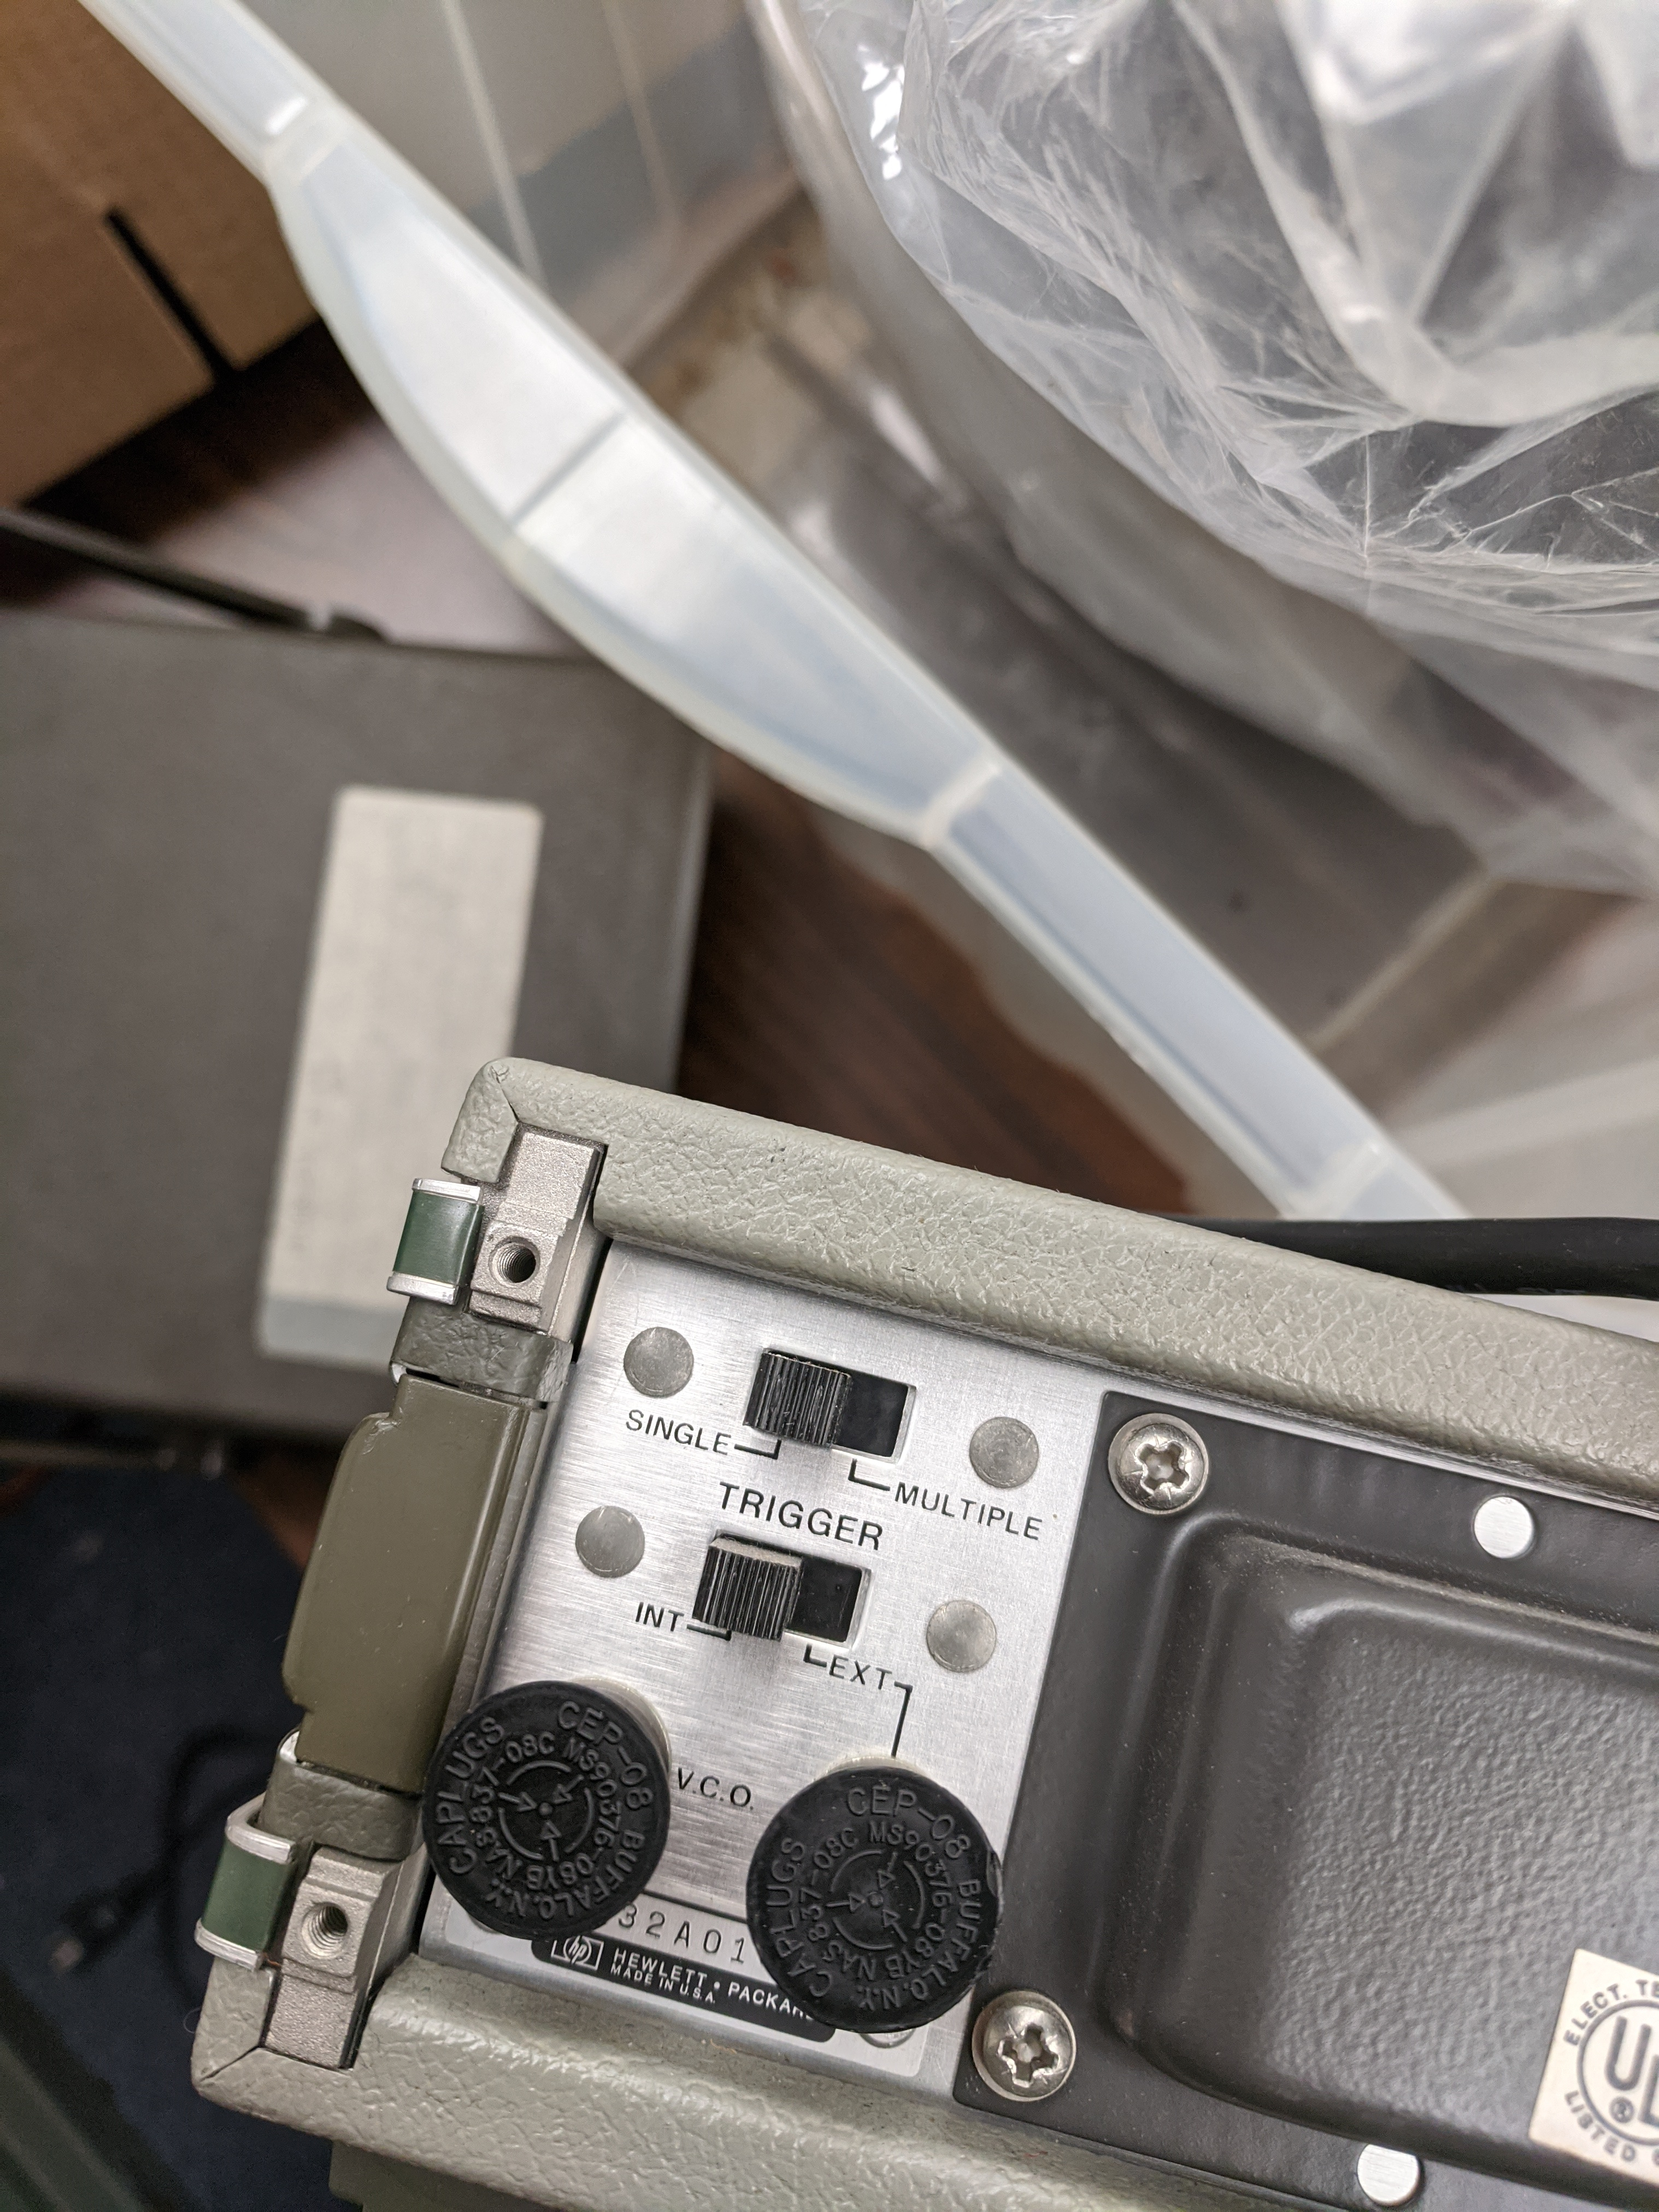cross_recessed_screw: (967, 1989, 1080, 2104), (1103, 1404, 1209, 1521)
